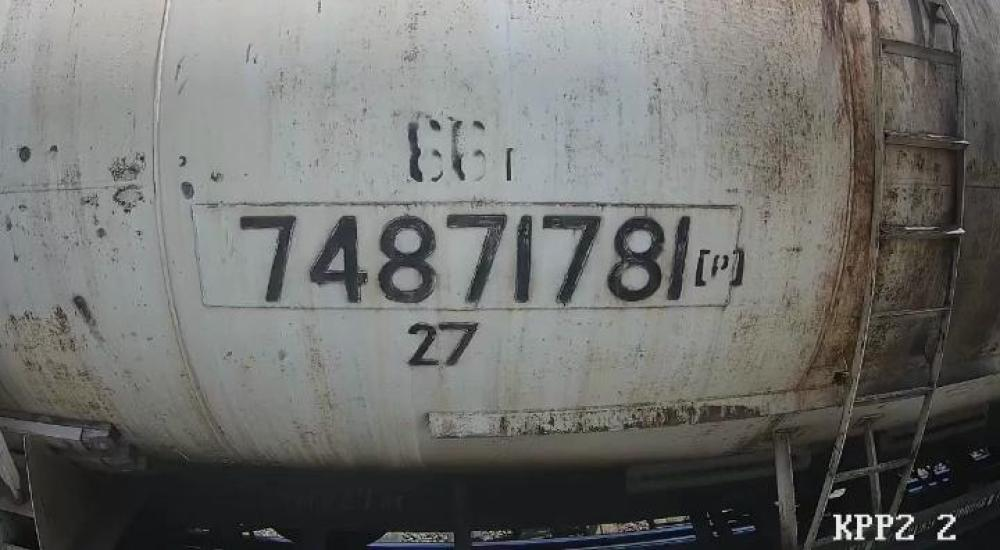Wagon-number: (230, 201, 693, 310)
